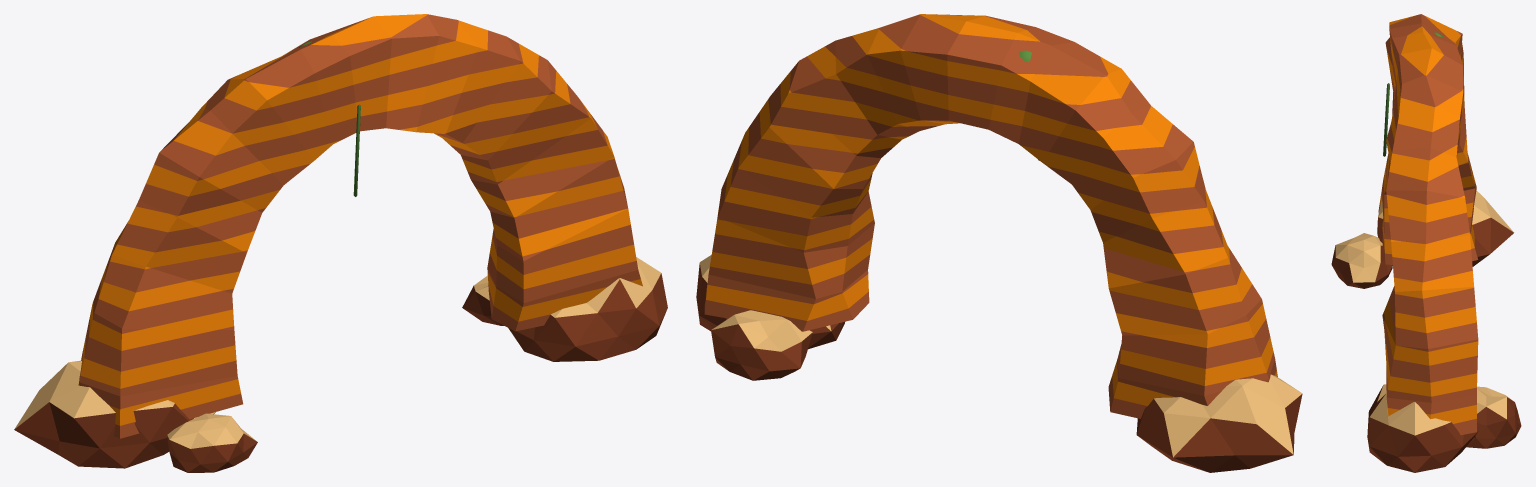
The model's file is W5_NaturalArch.fbx.
3 renders of one model, left to right at view 1: azimuth 30°, elevation 25°; view 2: azimuth 150°, elevation 25°; view 3: azimuth 270°, elevation 25°, orthographic. The views are drawn at different scales.
Visible parts, largest first — view 1: W5_NaturalArch; view 2: W5_NaturalArch; view 3: W5_NaturalArch.
Boxes of the visible parts, x1=… form: W5_NaturalArch: x1=14, y1=14, x2=667, y2=472; W5_NaturalArch: x1=696, y1=14, x2=1302, y2=472; W5_NaturalArch: x1=1331, y1=14, x2=1521, y2=472.
Size of the model in its own units: 30.22 by 16.86 by 9.34.
